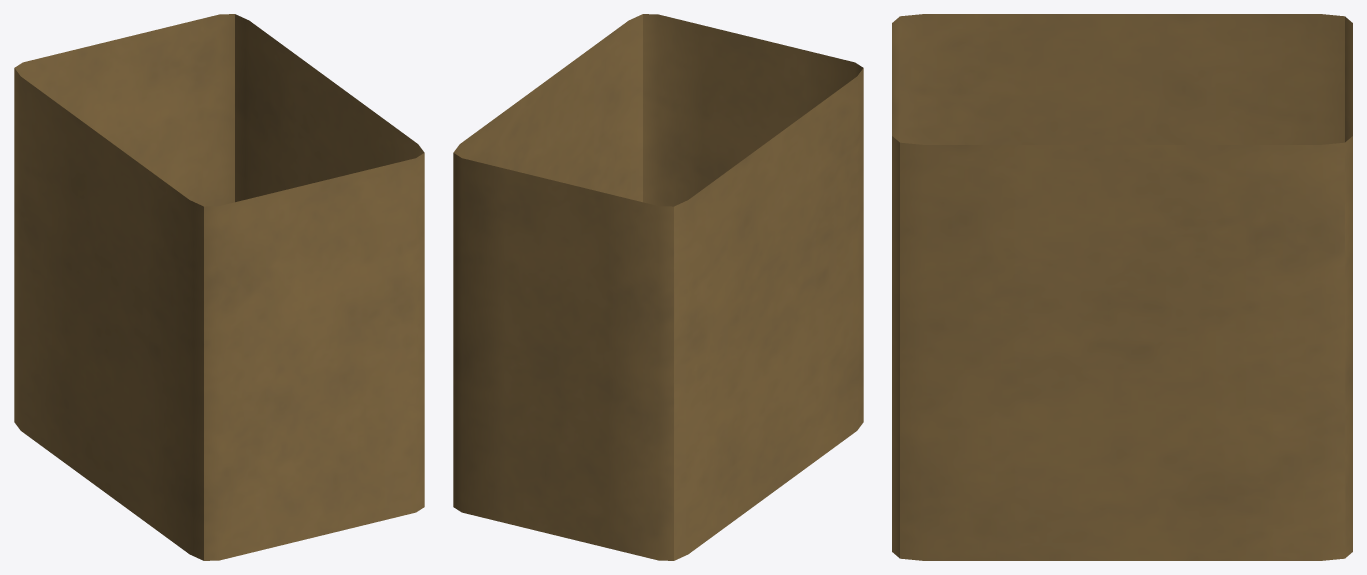
File: PlatformTall Height EXT MID.fbx
3 views of the same model, side by side, from view 1: azimuth 30°, elevation 25°; view 2: azimuth 150°, elevation 25°; view 3: azimuth 270°, elevation 25° (orthographic). The views are drawn at different scales.
Visible parts, largest first — view 1: PlatformTall Height EXT Mid; view 2: PlatformTall Height EXT Mid; view 3: PlatformTall Height EXT Mid.
Part boxes in pixels (<box>): PlatformTall Height EXT Mid: <box>14,14,424,560</box>; PlatformTall Height EXT Mid: <box>453,14,863,560</box>; PlatformTall Height EXT Mid: <box>892,14,1352,560</box>.
Bounding box in the file's own units: 25 × 37.19 × 37.03.
